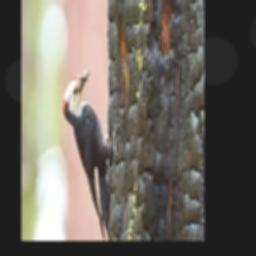Woodpecker: (64, 66, 119, 241)
